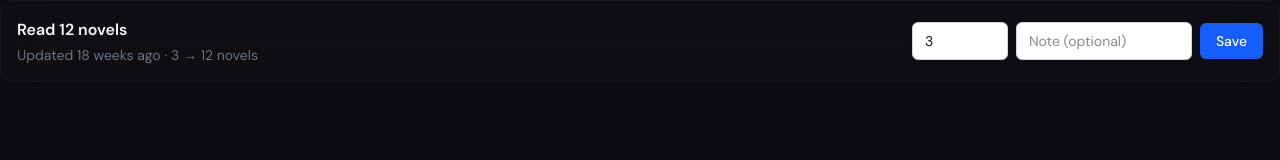
StaleGoalUpdates › surfaces API errors and keeps the row
Click the button "Save": (1231, 41) [1200,23,1263,59]
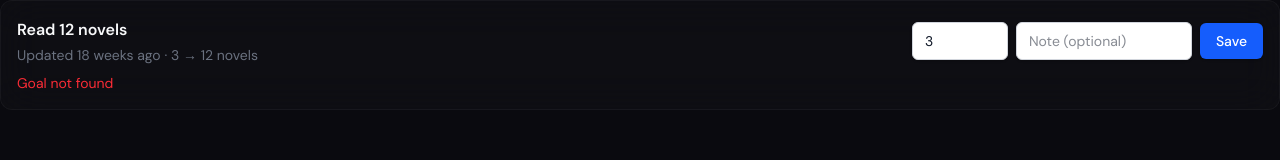
Expected: the number field named "New value for Read 12 novels" is shown, [912,22,1008,60]
Expected: the message reads "Goal not found", [17,74,113,92]
